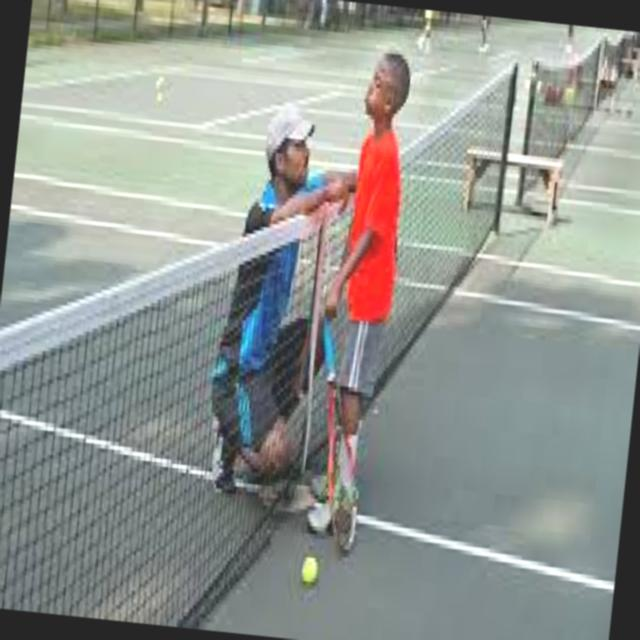tennis-ball: (300, 556, 320, 586)
